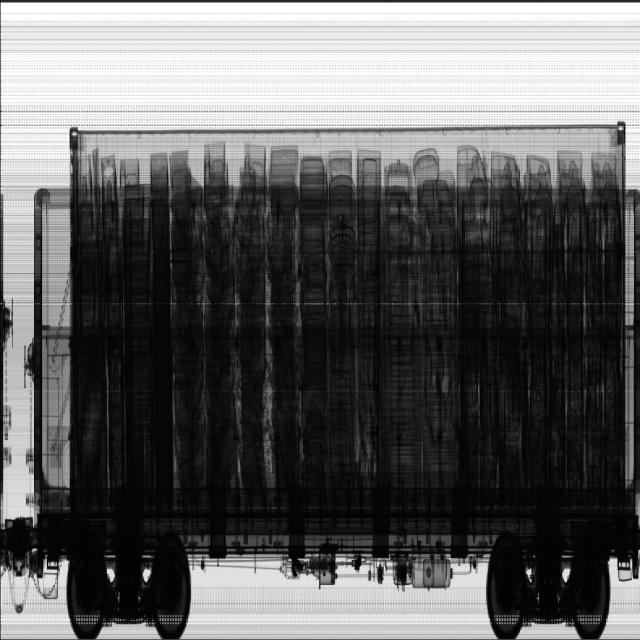bags: (79, 151, 383, 501), (412, 147, 622, 494)
table ware: (384, 160, 418, 492)
